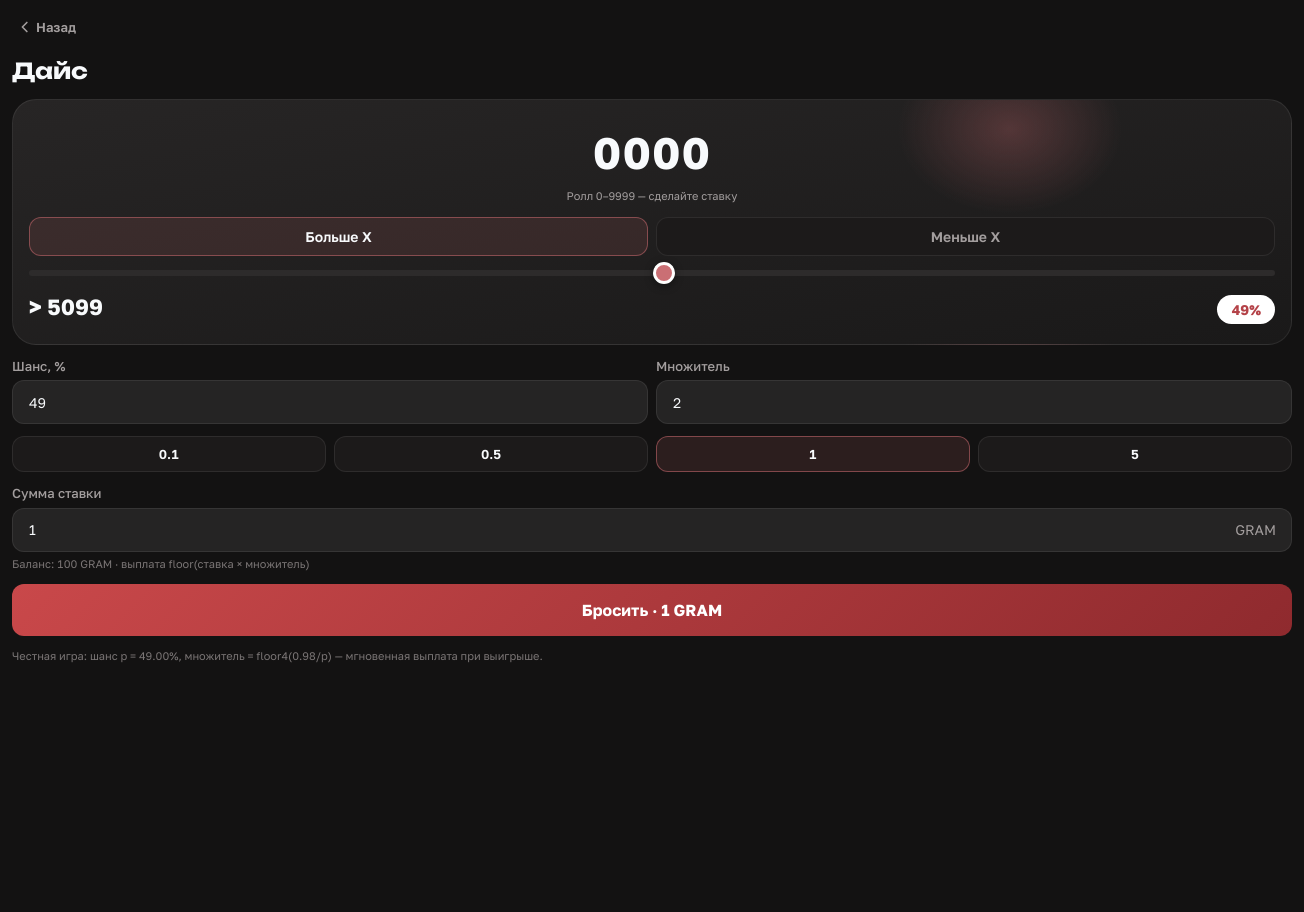
Test case: DiceScreen (4.7: поля пересчитывают друг друга) › ввод шанса 25% пересчитывает цель (under 2500) и множитель (x3.92)
Click the button "Меньше X" at (966, 236), box [656, 216, 1275, 256]
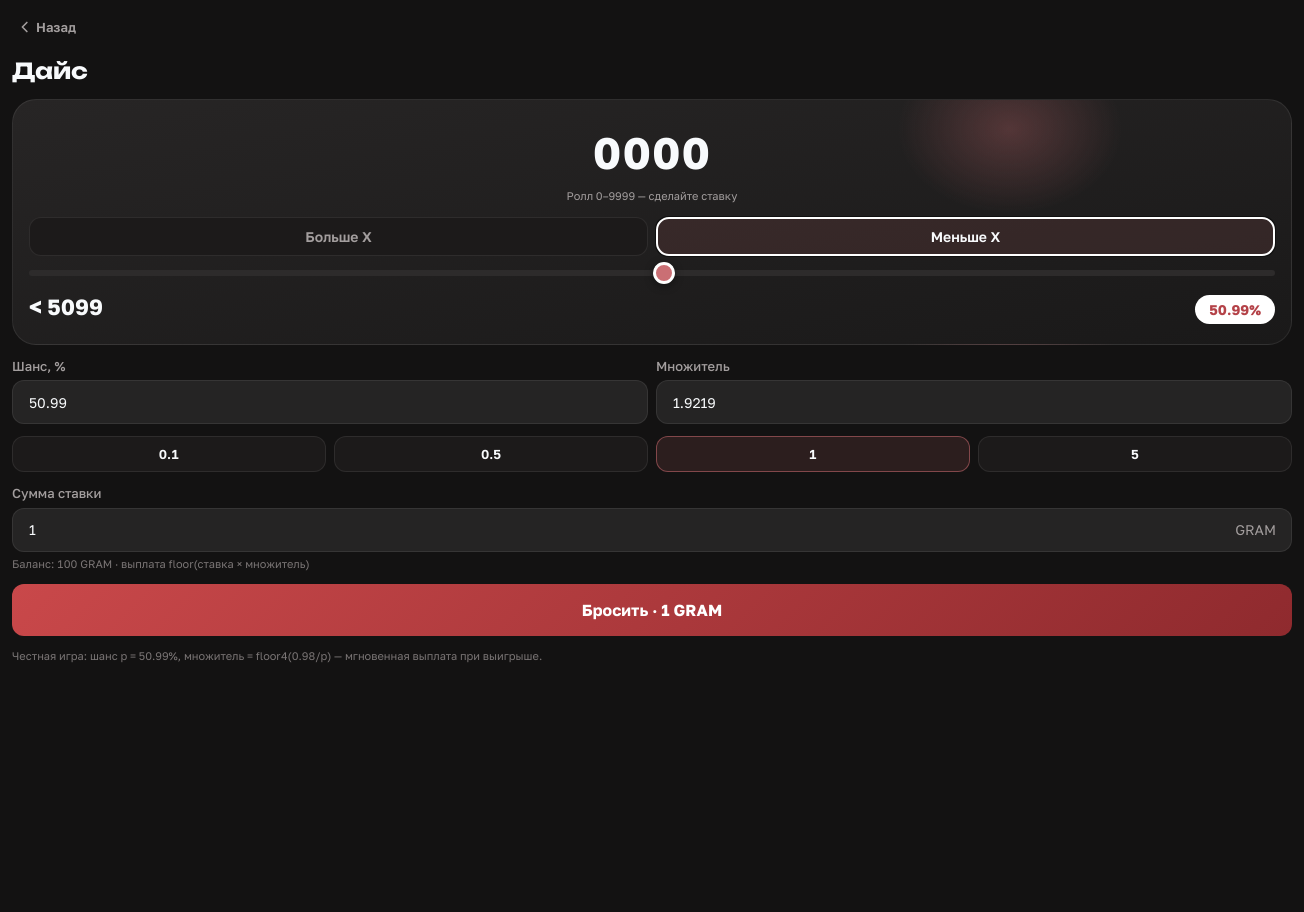
Replace the text in the field labelled "Шанс, %" with "25" at (330, 402), box [12, 380, 648, 424]
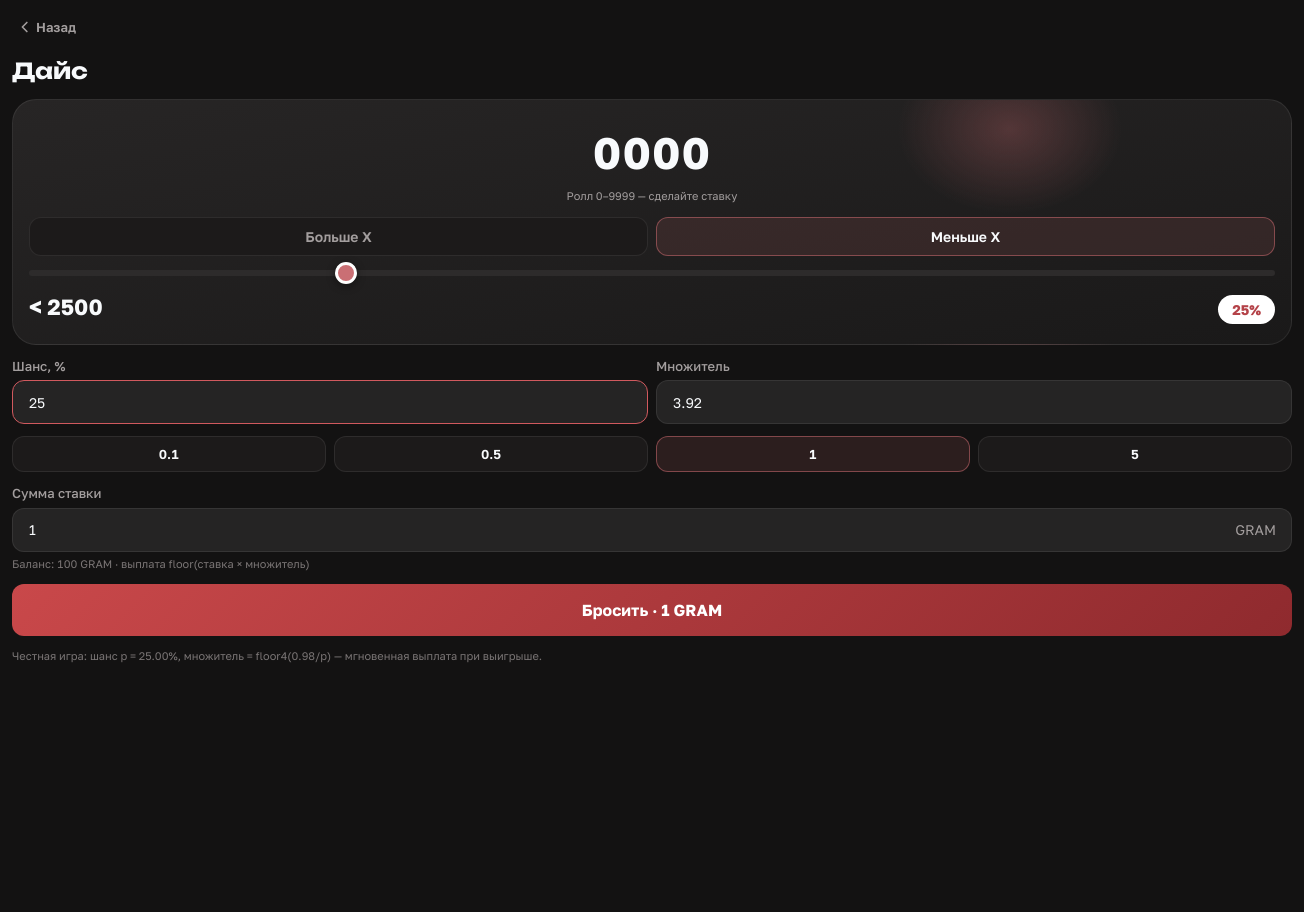
Check: the text "< 2500" is shown, box [29, 290, 103, 322]
Check: the field labelled "Множитель" holds "3.92", box [656, 380, 1292, 424]
Check: the text "25%" is shown, box [1218, 294, 1275, 324]
